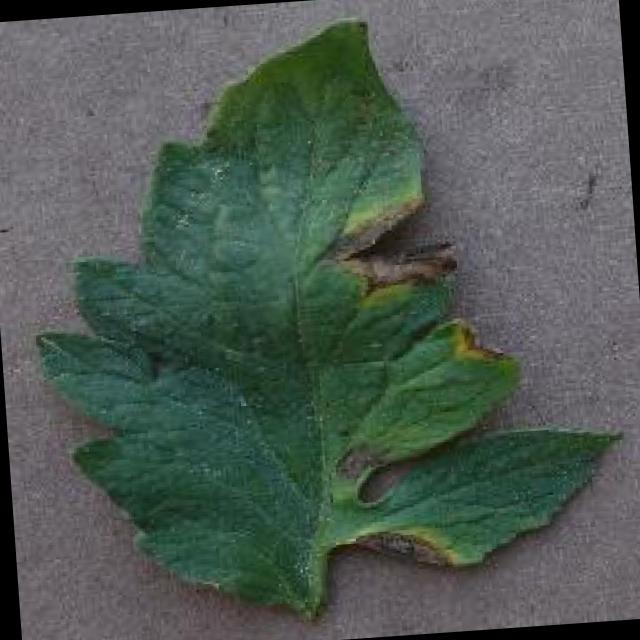Tomato_Early_Blight: (315, 156, 547, 587)
